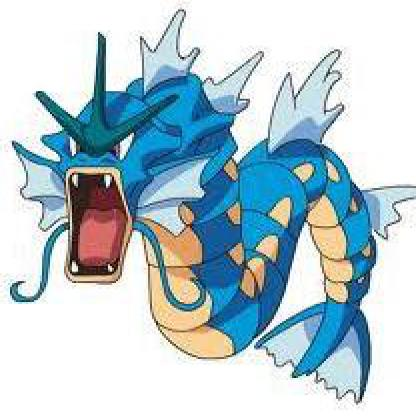Gyarados: (1, 1, 415, 415)
